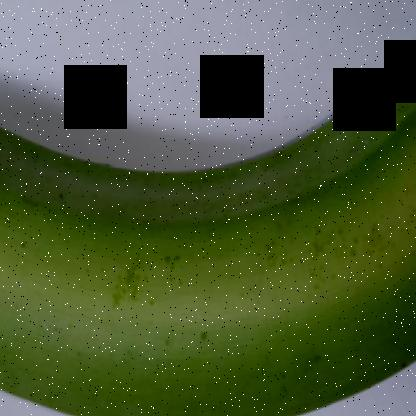freshunripe: (0, 9, 416, 415)
